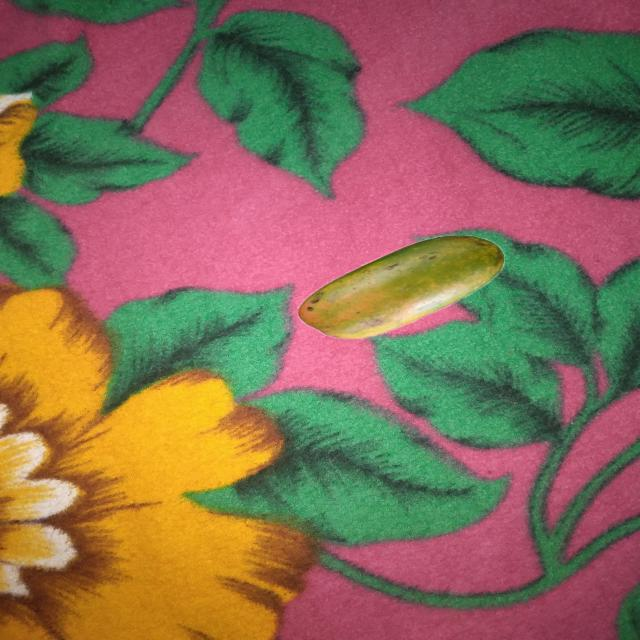Pepaya rippen: (291, 226, 510, 345)
